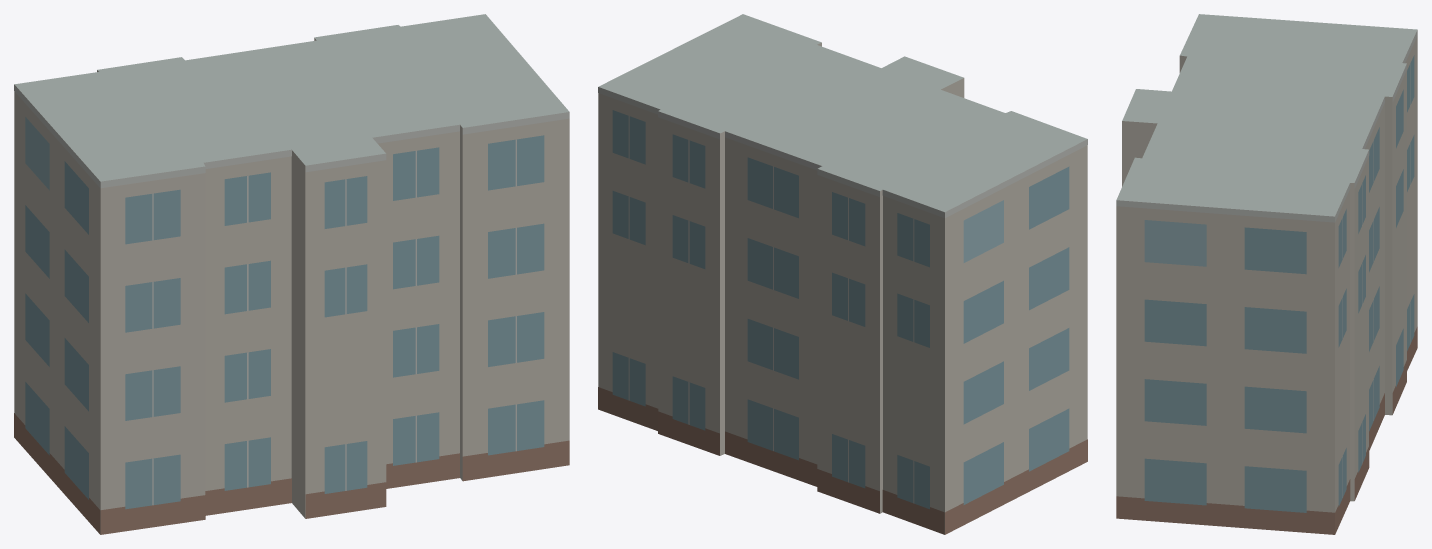
The model's file is survey-upis-32701243.glb.
The picture shows the model from 3 angles, left to right: view 1: azimuth 30°, elevation 25°; view 2: azimuth 150°, elevation 25°; view 3: azimuth 270°, elevation 25°; orthographic projection. The views are drawn at different scales.
Parts seen in each view (by area): view 1: survey-upis-32701243.tmp; view 2: survey-upis-32701243.tmp; view 3: survey-upis-32701243.tmp.
Part boxes in pixels (x1,y1,x2,y2): survey-upis-32701243.tmp: (14, 14, 569, 534); survey-upis-32701243.tmp: (598, 14, 1087, 534); survey-upis-32701243.tmp: (1116, 14, 1417, 534).
Bounding box in the file's own units: 17.68 × 12.95 × 11.12.
